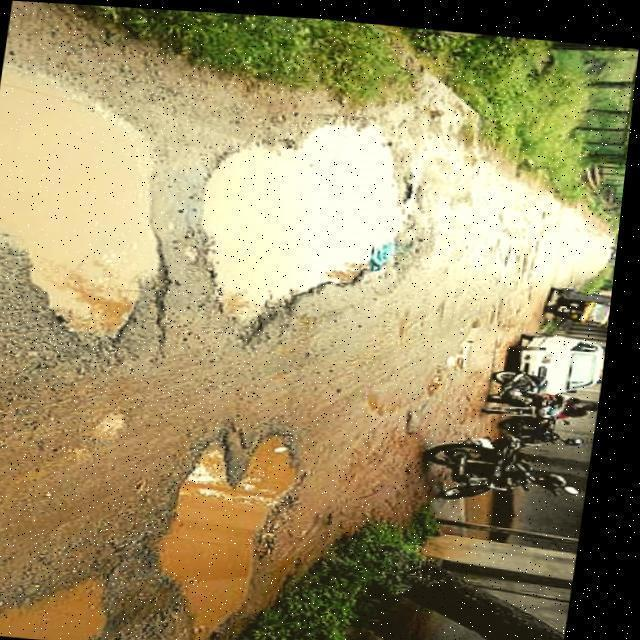Pothole: (0, 58, 173, 337), (208, 115, 418, 327), (157, 428, 293, 638), (0, 574, 118, 640)
